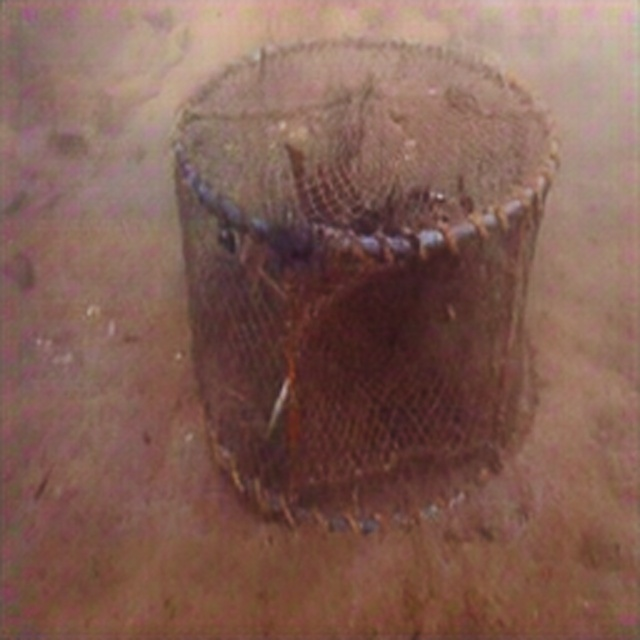mine: (169, 34, 561, 532)
